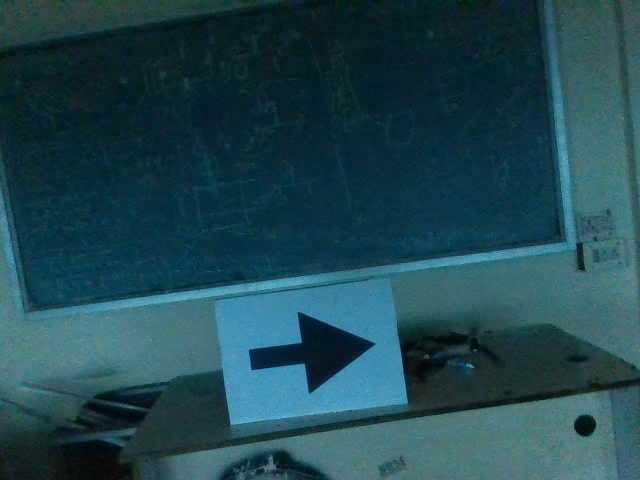Right: (244, 307, 377, 396)
